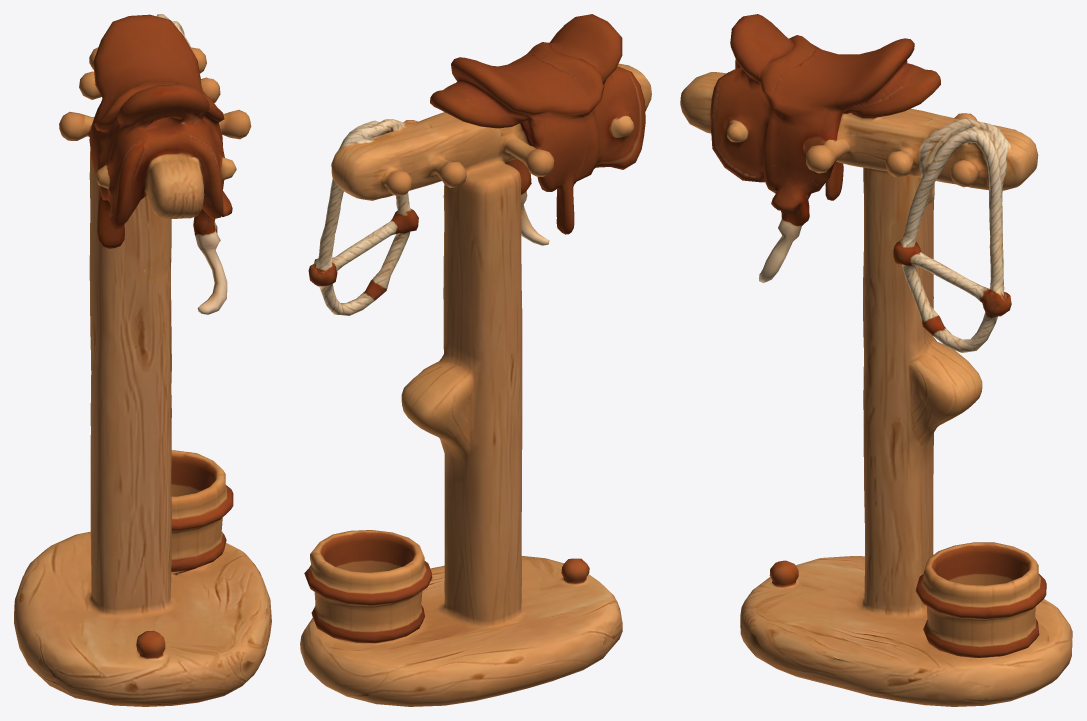
3 renders of one model, left to right at view 1: azimuth 30°, elevation 25°; view 2: azimuth 150°, elevation 25°; view 3: azimuth 270°, elevation 25°, orthographic. The views are drawn at different scales.
Parts seen in each view (by area): view 1: tack-rack; view 2: tack-rack; view 3: tack-rack.
Boxes of the visible parts, x1,y1,x2,y2 form: tack-rack: (14,14,271,706); tack-rack: (300,14,651,706); tack-rack: (680,14,1072,706).
Size of the model in its own units: 0.6837 by 1.6 by 0.9378.
Materials: 1 (1 with a texture image).
